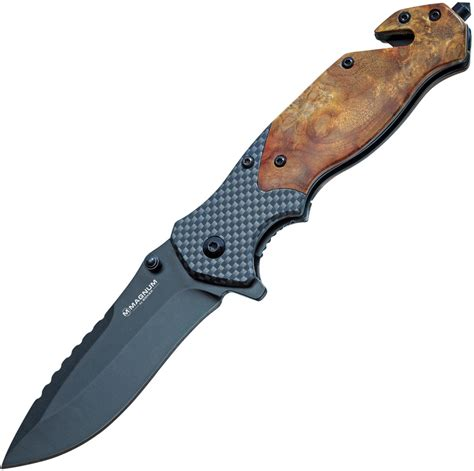knife: (8, 4, 465, 464)
